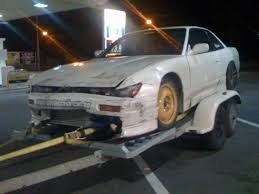Dent: (154, 68, 166, 80)
Smashed: (28, 76, 154, 130)
